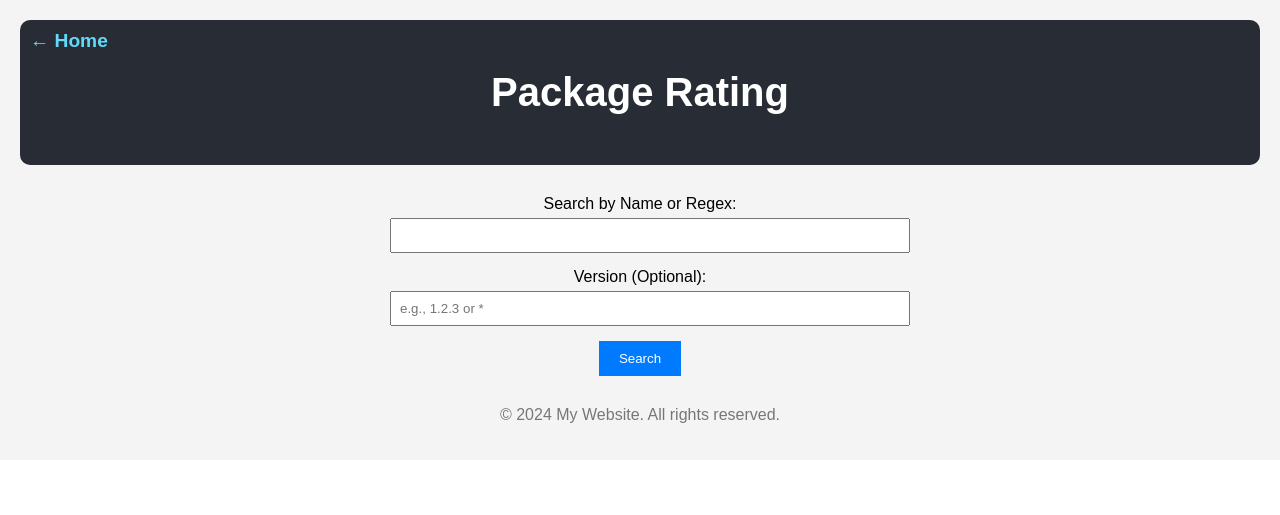
Test case: RatingPage Component › shows error if search with name fails 404
Type "nonexistent-package" into the field labelled "Search by Name or Regex:".
click(650, 236); type("nonexistent-package")  # box [390,218,910,253]
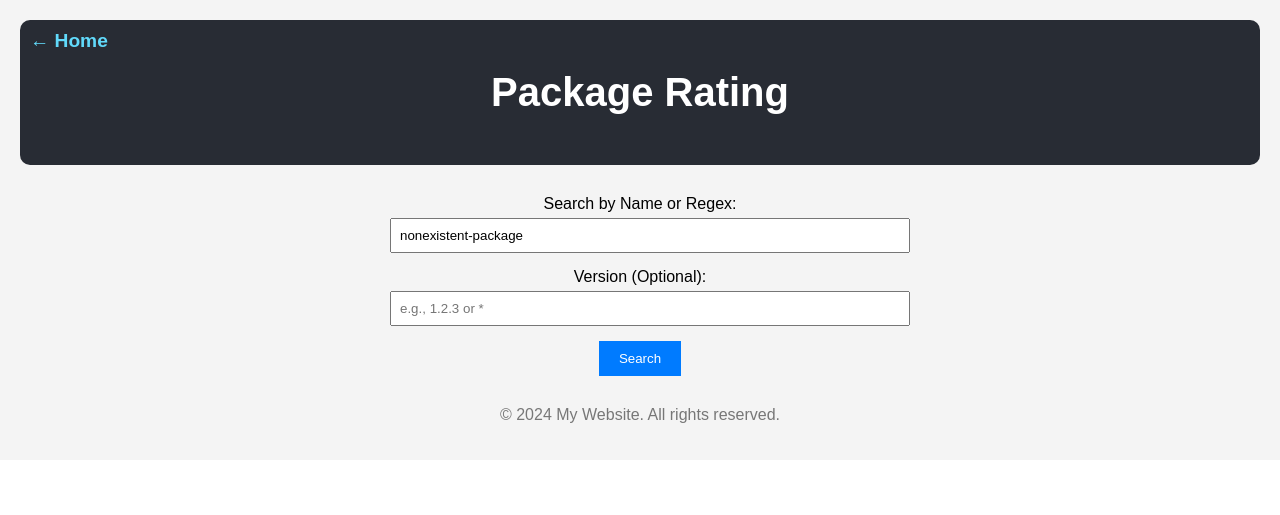
Click the button "Search".
click(640, 358)  # box [599,341,681,376]
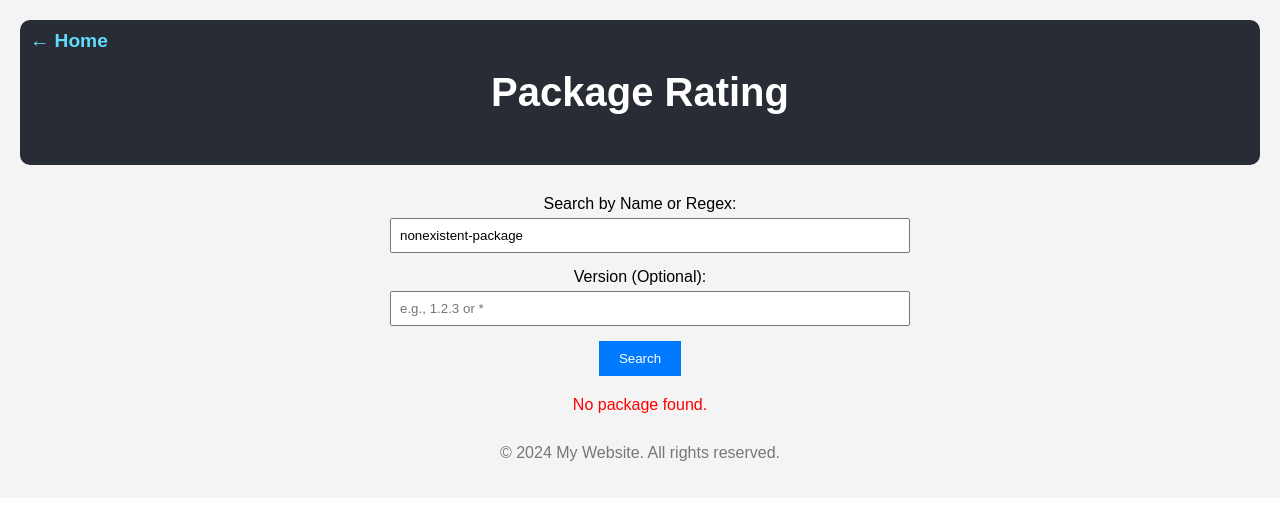
Now the text "No package found." is shown, box [573,396,707,413]
